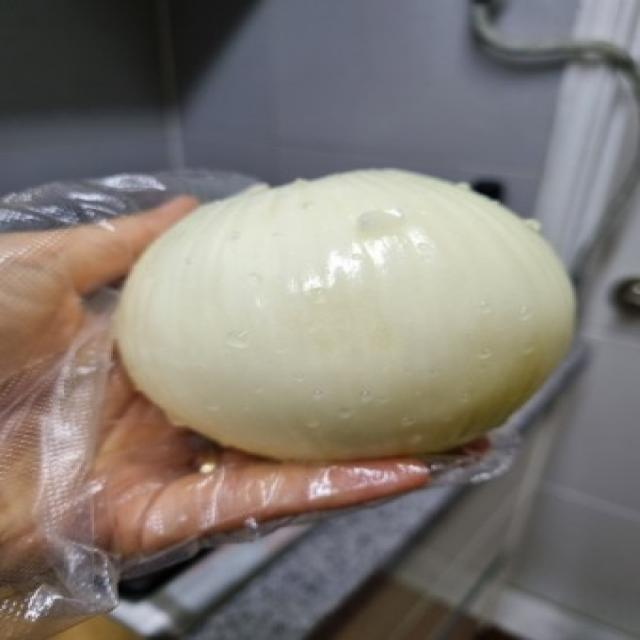onion: (104, 166, 596, 470)
